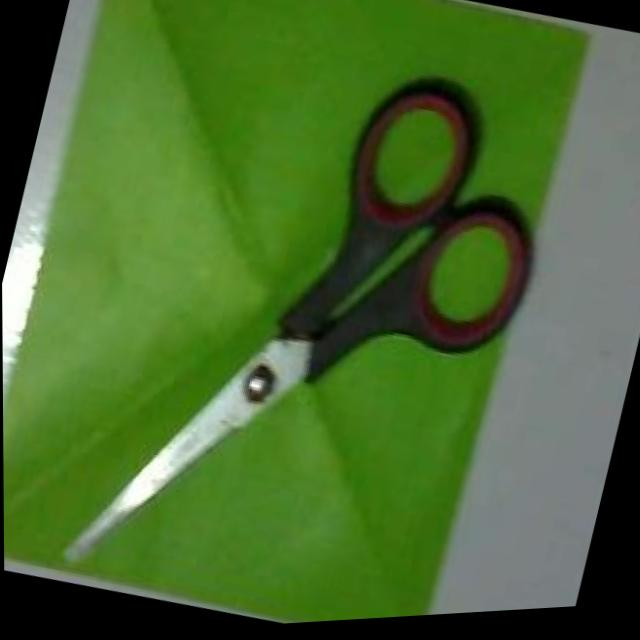scissor: (36, 0, 585, 638)
